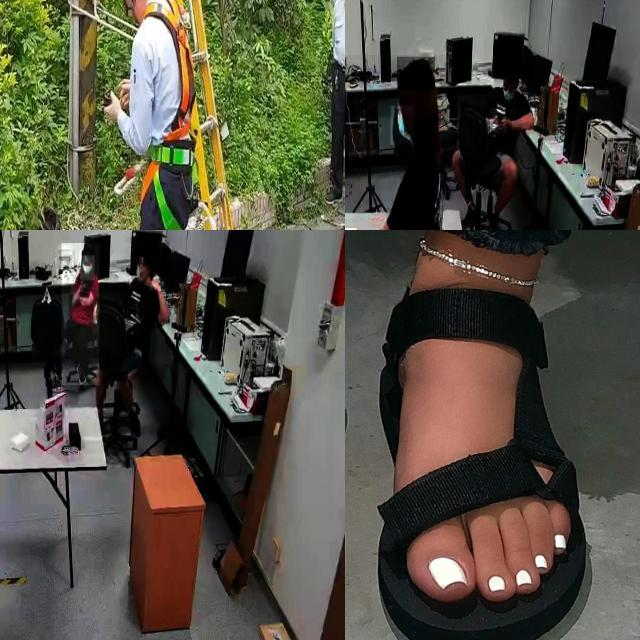Harness: (136, 0, 199, 230)
Sandals: (375, 242, 587, 640)
face_mask: (390, 106, 414, 144), (80, 256, 94, 280)
hand_noglove: (490, 109, 506, 134), (498, 113, 512, 133), (147, 277, 161, 292), (78, 278, 88, 291)
head_nohelmet: (397, 57, 435, 91), (138, 243, 156, 258), (502, 61, 520, 75), (82, 241, 95, 255)
person: (345, 54, 462, 230), (115, 243, 167, 440), (62, 243, 100, 386), (484, 76, 535, 156)
